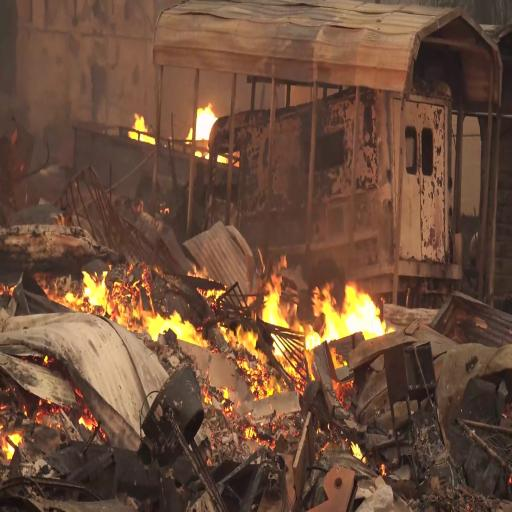fire: (302, 272, 390, 344), (186, 95, 220, 143)
